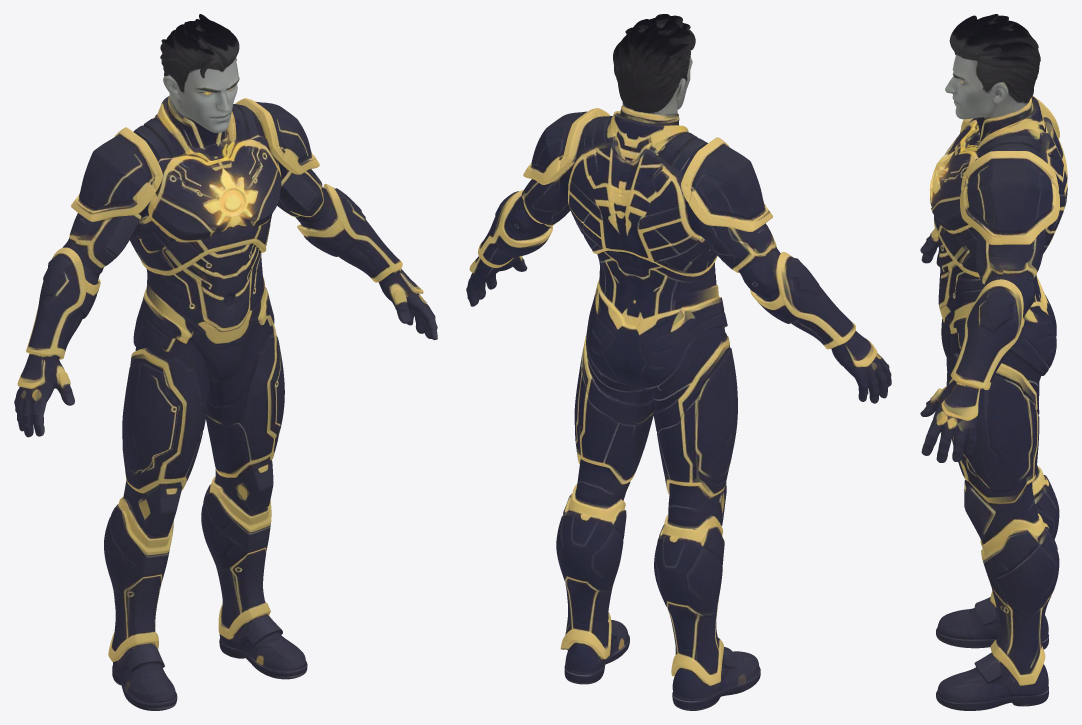
File: surya.glb
3 views of the same model, side by side, from view 1: azimuth 30°, elevation 25°; view 2: azimuth 150°, elevation 25°; view 3: azimuth 270°, elevation 25° (orthographic).
Bounding box in the file's own units: 1.24 × 1.9 × 0.386.
1 material, 1 textured.
